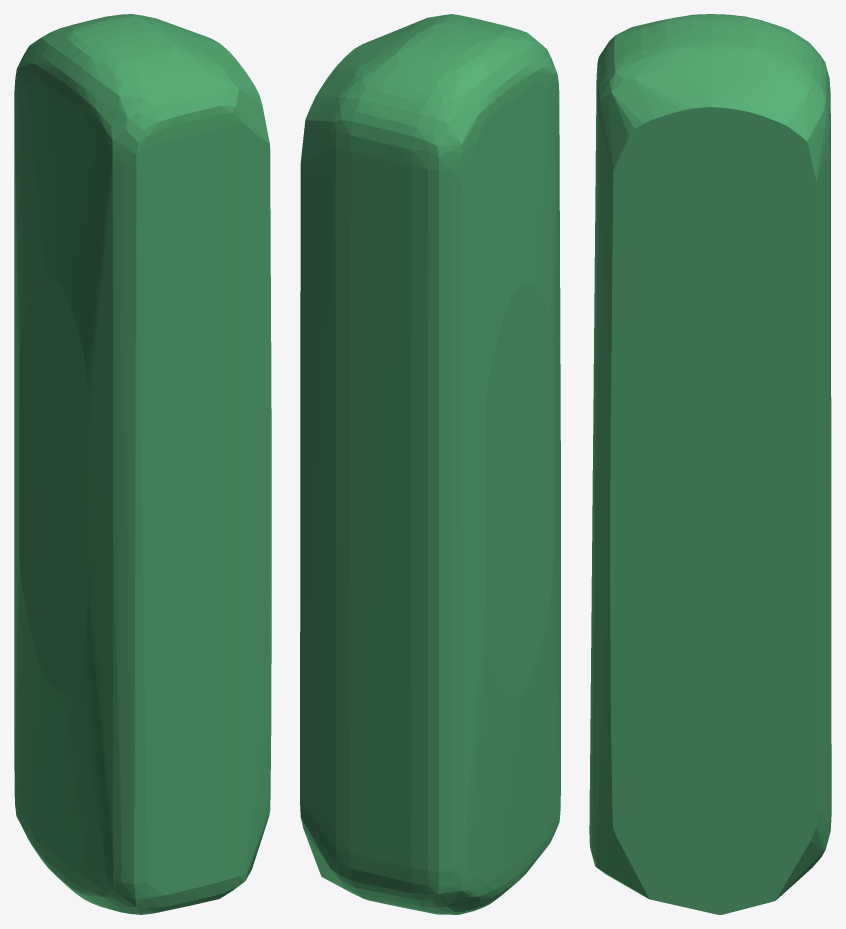
3 renders of one model, left to right at view 1: azimuth 30°, elevation 25°; view 2: azimuth 150°, elevation 25°; view 3: azimuth 270°, elevation 25°, orthographic.
Bounding box in the file's own units: 0.0327 × 0.1608 × 0.0418.
